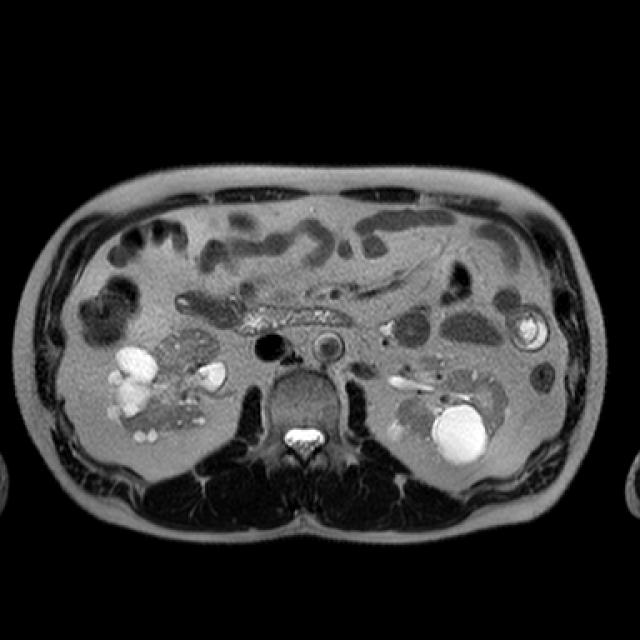sag: (105, 326, 229, 446)
sol: (386, 352, 510, 467)
